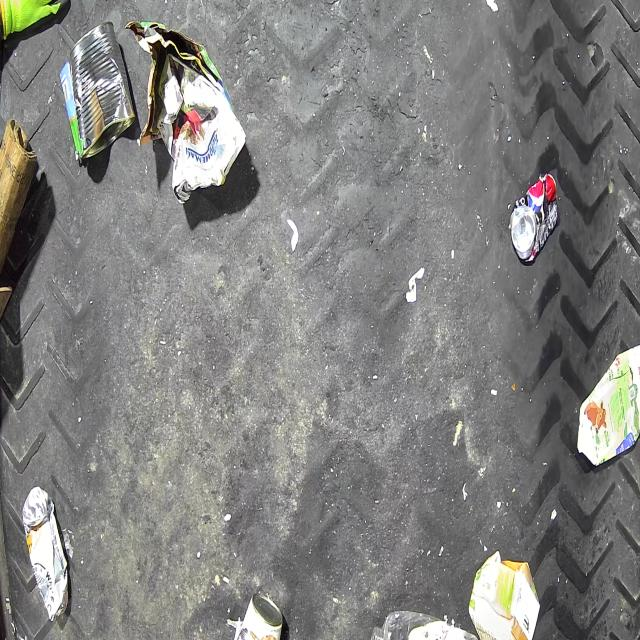can: (68, 20, 136, 159), (22, 484, 68, 622), (511, 174, 558, 264), (233, 594, 283, 640)
non_white_jug: (578, 344, 640, 466), (468, 550, 540, 640)
plastic_bottle: (368, 610, 480, 640)
